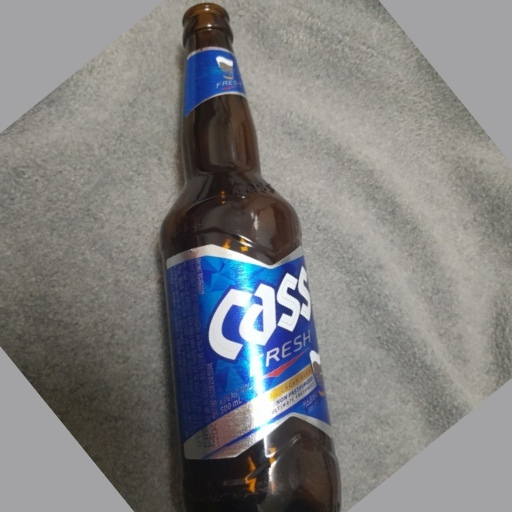Glass_1: (154, 2, 341, 512)
